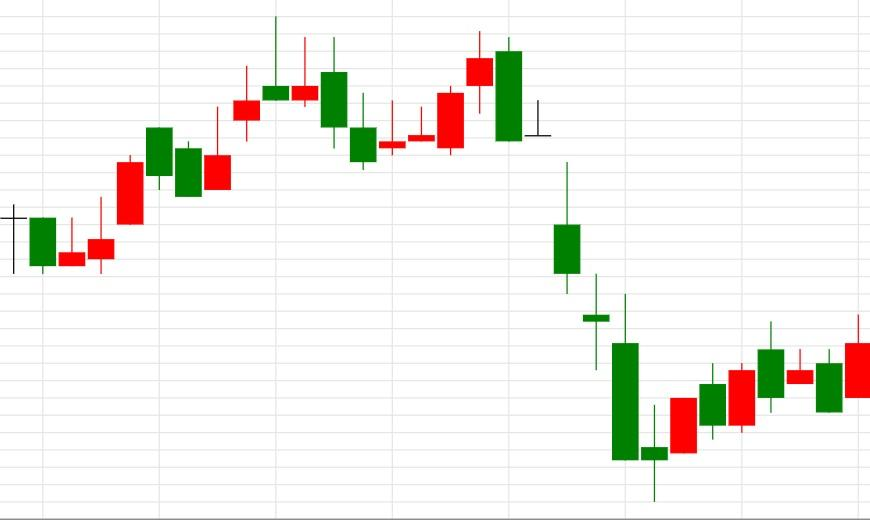bearish_engulfing_fall: (641, 322, 843, 503), (174, 17, 348, 198)
